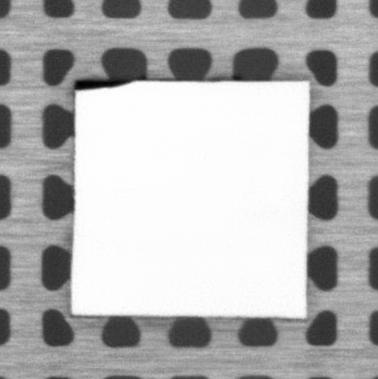DIE_BROKEN: (72, 77, 137, 90)
